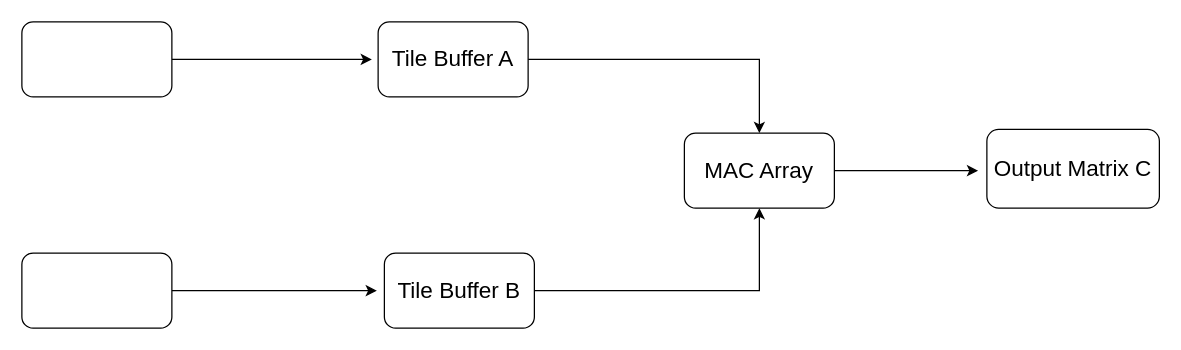
The diagram is 1181 pixels wide and 350 high, and some of its shapes have lost their labels. Each missing label, with the box of its shape:
Matrix A: (21, 21, 172, 97)
Matrix B: (21, 252, 172, 328)
